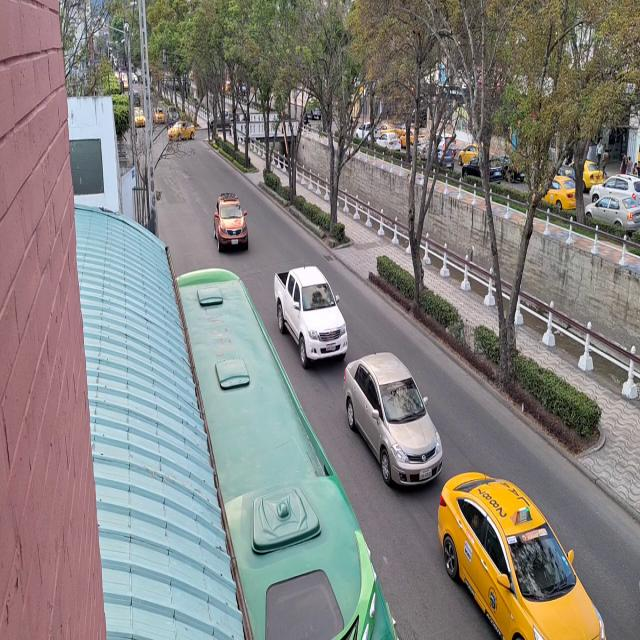CMT: (278, 270, 350, 365)
SED: (436, 469, 604, 638), (344, 352, 442, 488)
SUV: (215, 193, 248, 251)
